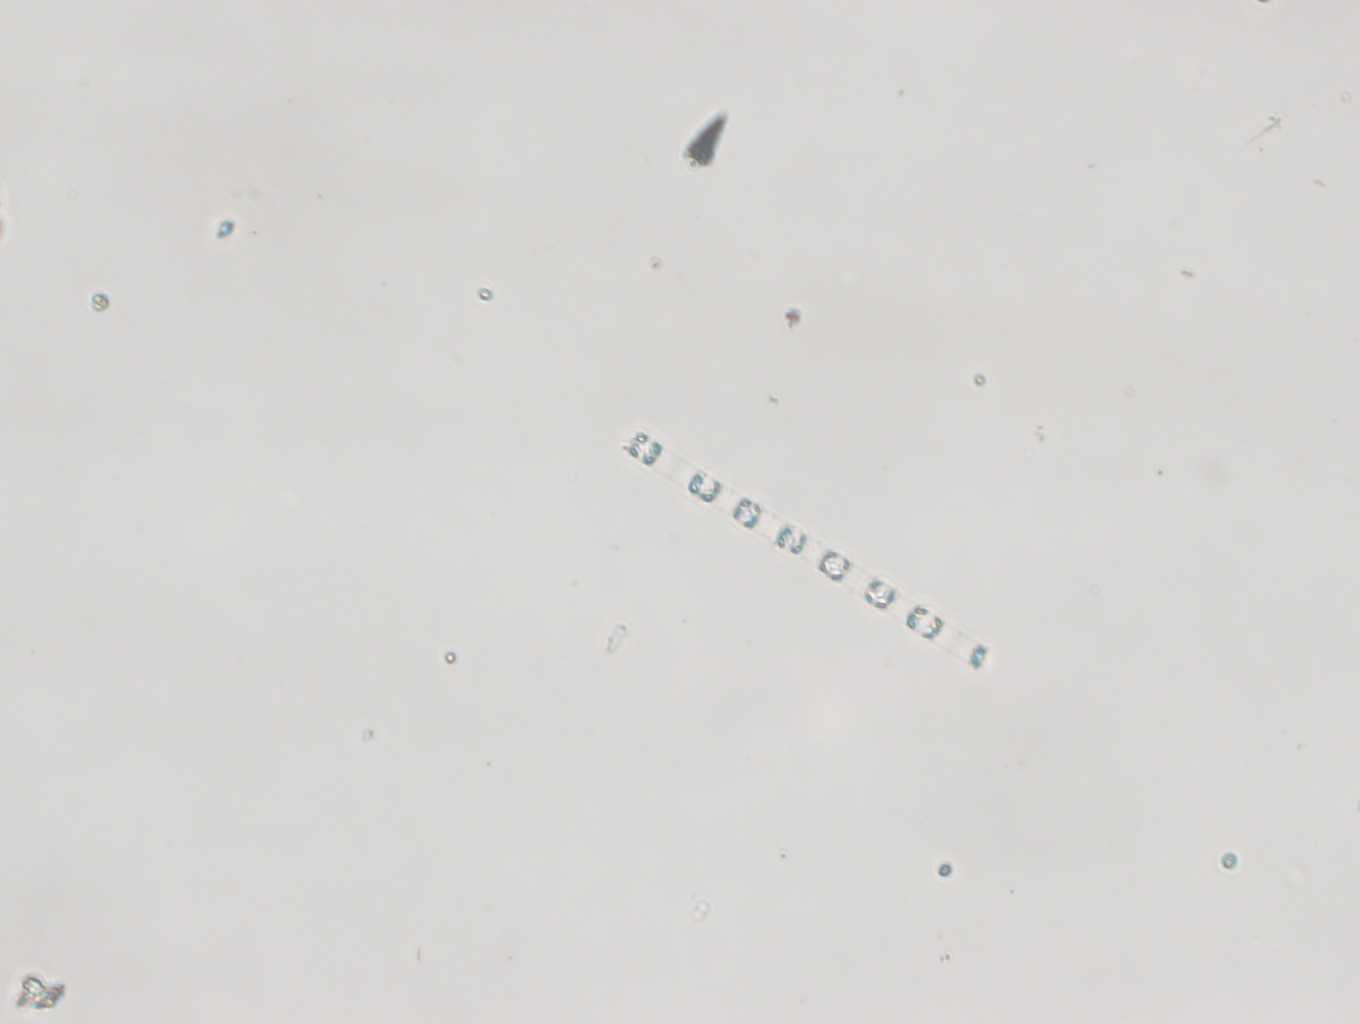skeletonema: (615, 419, 1005, 689)
